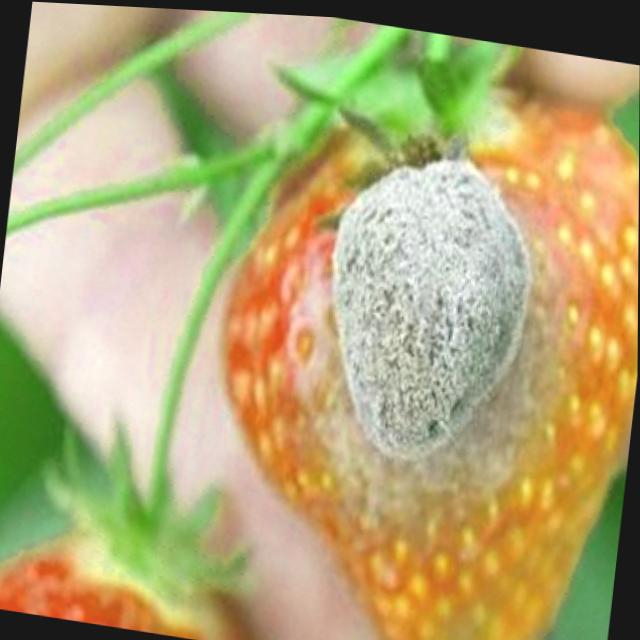Gray Mold: (281, 126, 583, 535)
